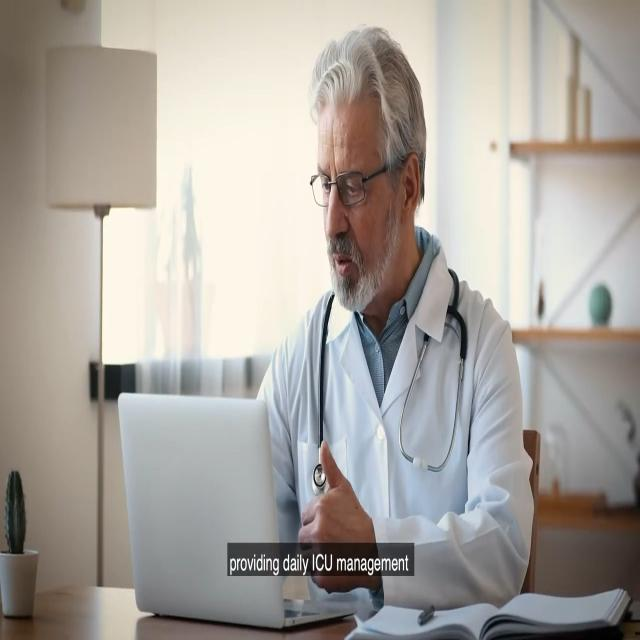Doctor: (258, 21, 550, 532)
